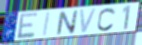1: (121, 4, 132, 31)
C: (96, 7, 117, 33)
E: (17, 11, 39, 40)
I: (42, 11, 52, 37)
N: (56, 9, 79, 36)
V: (78, 7, 99, 34)
